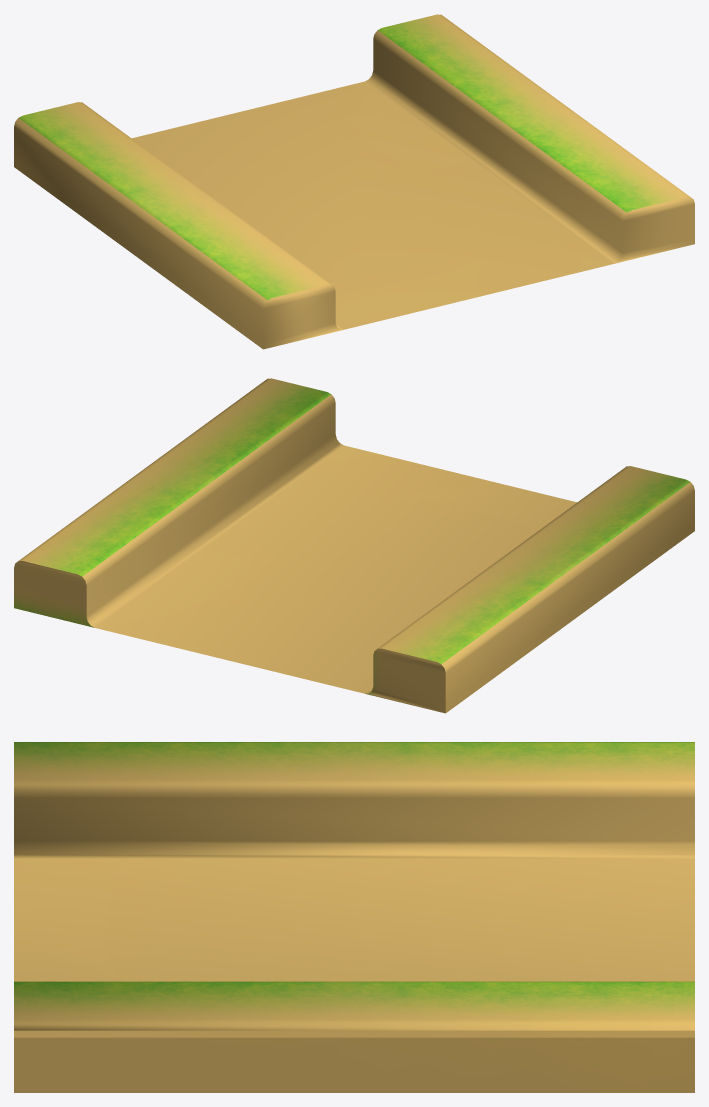
Rendered from Map022.obj.
3 views of the same model, one above another, from view 1: azimuth 30°, elevation 25°; view 2: azimuth 150°, elevation 25°; view 3: azimuth 270°, elevation 25° (orthographic). The views are drawn at different scales.
Parts seen in each view (by area): view 1: Map.022_Plane.038; view 2: Map.022_Plane.038; view 3: Map.022_Plane.038.
Boxes of the visible parts, x1,y1,x2,y2 form: Map.022_Plane.038: (14,14,694,349); Map.022_Plane.038: (14,378,694,713); Map.022_Plane.038: (14,742,694,1092).
Size of the model in its own units: 1 by 0.1093 by 1.
1 material, 1 textured.
